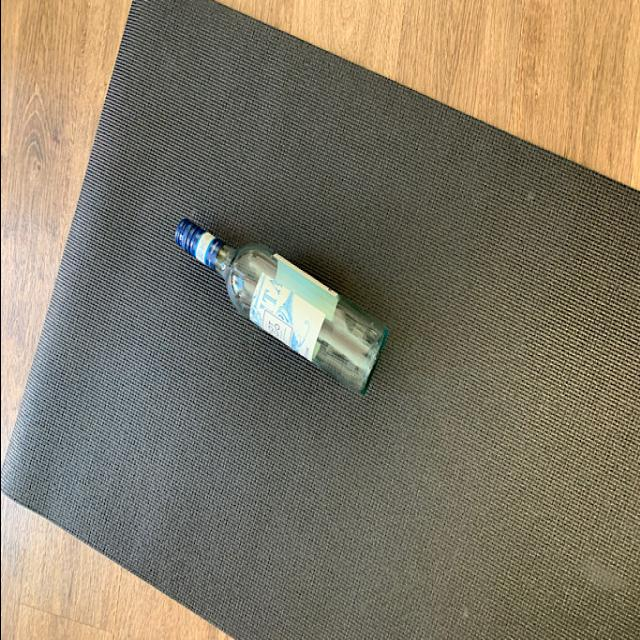Glass Bottle: (166, 215, 384, 401)
